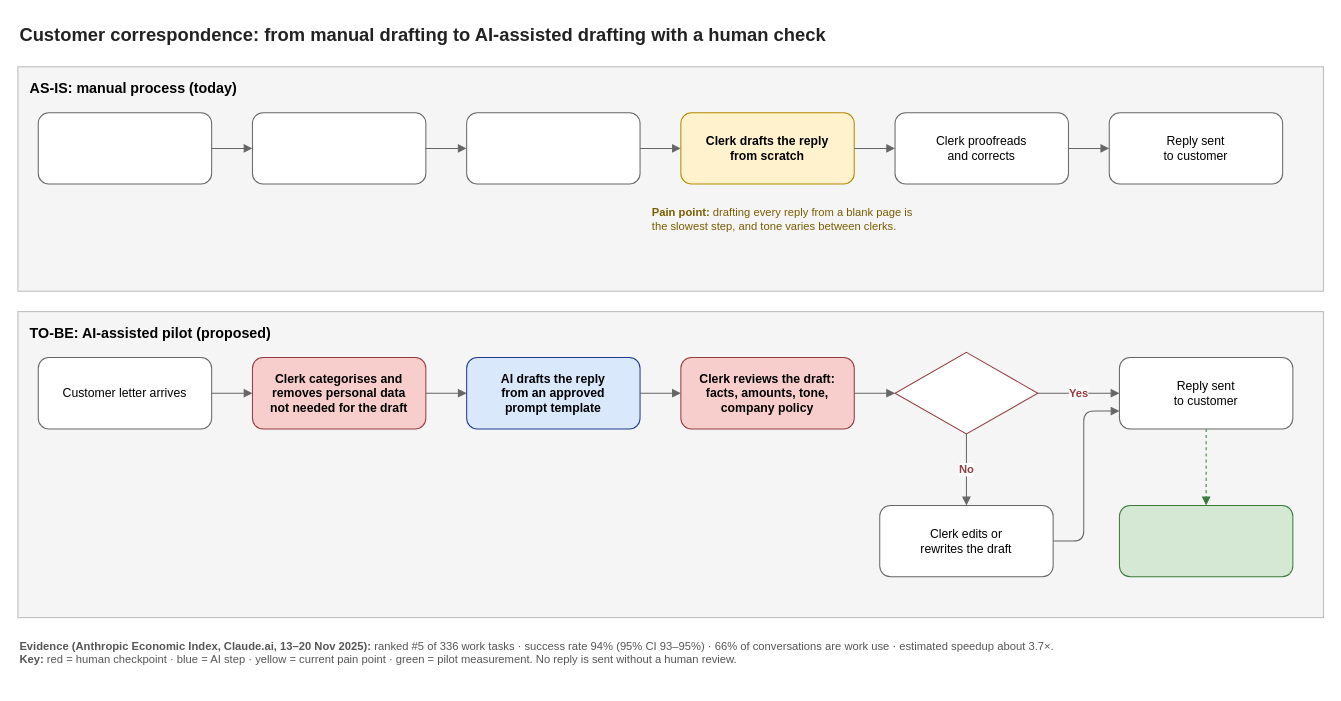
This 1341x701 diagram has some shape labels left out. Each missing label, with the box of its shape:
Clerk looks up the account and order details: (466, 112, 640, 184)
Clerk reads and categorises the request: (251, 112, 426, 184)
Customer letter arrives (billing, damage claim, credit request, complaint): (37, 112, 212, 184)
Draft correct and compliant?: (894, 351, 1038, 434)
Log time per reply, edits made and outcome (pilot KPIs): (1118, 504, 1293, 577)
